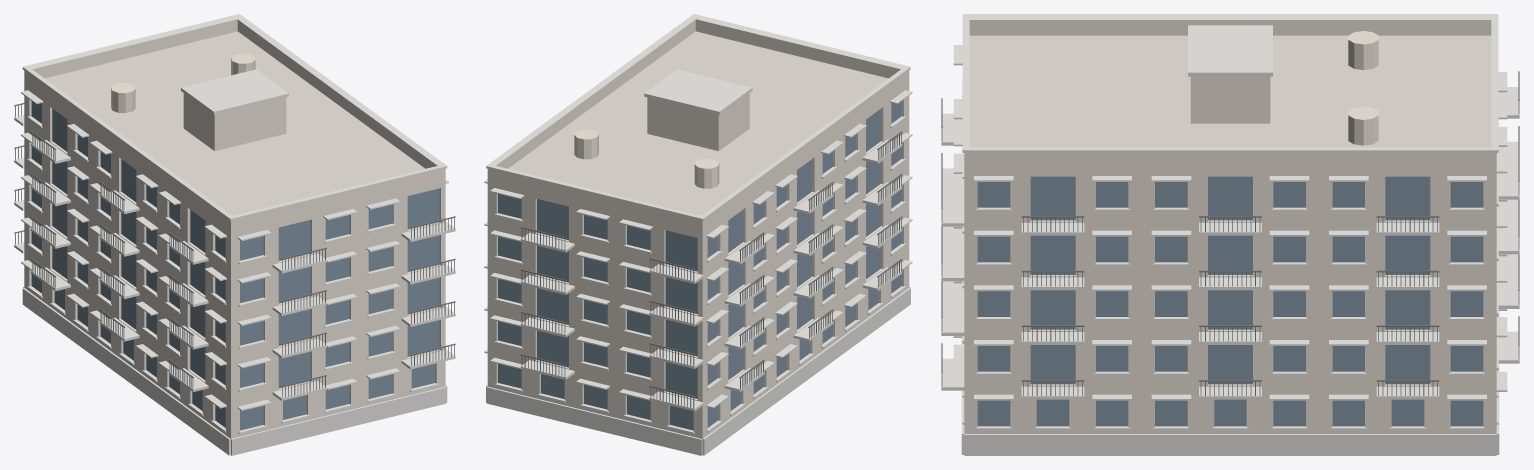
File: Staff_Quarters_1.fbx
3 renders of one model, left to right at view 1: azimuth 30°, elevation 25°; view 2: azimuth 150°, elevation 25°; view 3: azimuth 270°, elevation 25°, orthographic. The views are drawn at different scales.
Parts seen in each view (by area): view 1: Staff_Quarters_1; view 2: Staff_Quarters_1; view 3: Staff_Quarters_1.
Boxes of the visible parts, x1,y1,x2,y2 form: Staff_Quarters_1: (14,14,455,455); Staff_Quarters_1: (484,14,912,455); Staff_Quarters_1: (941,14,1519,455).
Bounding box in the file's own units: 20.6 × 21.05 × 32.6.
